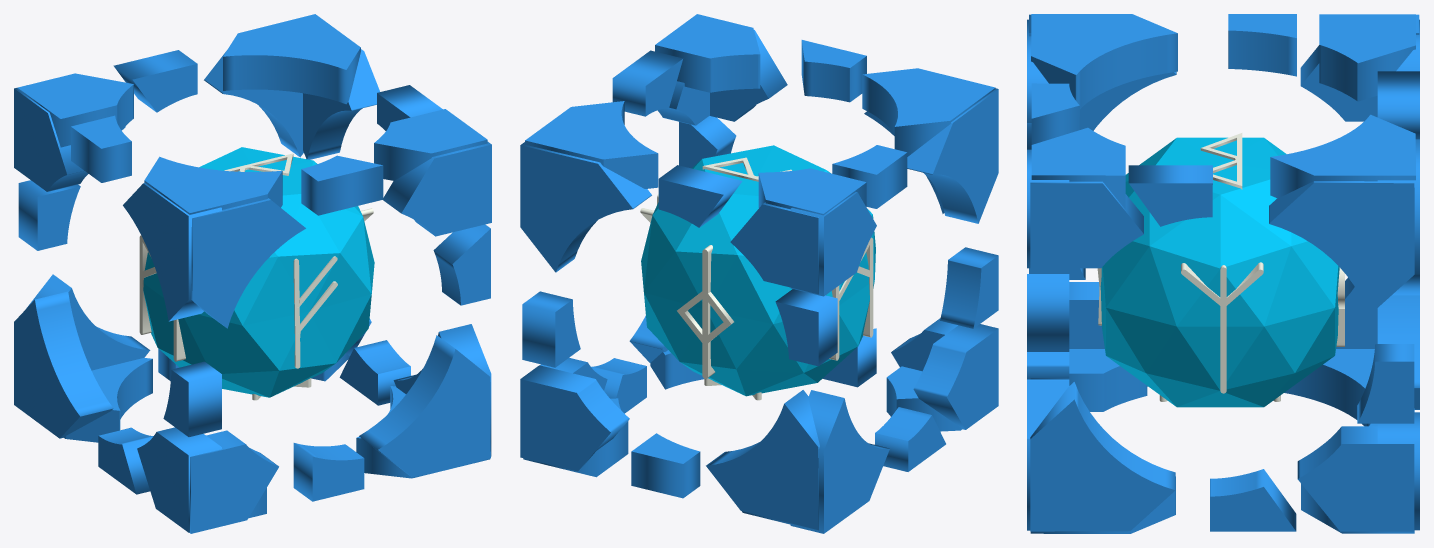
The picture shows the model from 3 angles, left to right: view 1: azimuth 30°, elevation 25°; view 2: azimuth 150°, elevation 25°; view 3: azimuth 270°, elevation 25°; orthographic projection. The views are drawn at different scales.
Parts seen in each view (by area): view 1: cube 03, cube 02, cube 01, Icosphere, cube 04, cube 06, cube 05, letter 02, letter 03, letter 01; view 2: cube 04, cube 01, cube 02, Icosphere, cube 06, cube 05, cube 03, letter 05, letter 03, letter 01; view 3: cube 06, Icosphere, cube 02, cube 05, cube 01, cube 04, cube 03, letter 04, letter 01, letter 05.
Part boxes in pixels (bbox=[...]): cube 03: bbox=[189, 142, 491, 533]; cube 02: bbox=[17, 14, 487, 215]; cube 01: bbox=[14, 88, 221, 532]; Icosphere: bbox=[143, 147, 374, 397]; cube 04: bbox=[18, 50, 303, 370]; cube 06: bbox=[303, 49, 491, 456]; cube 05: bbox=[64, 349, 490, 518]; letter 02: bbox=[293, 256, 337, 368]; letter 03: bbox=[139, 235, 185, 361]; letter 01: bbox=[224, 153, 293, 175]; cube 04: bbox=[520, 142, 837, 530]; cube 01: bbox=[790, 88, 998, 533]; cube 02: bbox=[525, 14, 995, 215]; Icosphere: bbox=[641, 145, 875, 396]; cube 06: bbox=[522, 50, 709, 413]; cube 05: bbox=[523, 350, 961, 524]; cube 03: bbox=[679, 30, 957, 387]; letter 05: bbox=[677, 245, 733, 378]; letter 03: bbox=[829, 237, 873, 360]; letter 01: bbox=[702, 157, 791, 181]; cube 06: bbox=[1030, 165, 1414, 531]; Icosphere: bbox=[1100, 137, 1339, 407]; cube 02: bbox=[1031, 14, 1415, 209]; cube 05: bbox=[1030, 349, 1414, 533]; cube 01: bbox=[1029, 14, 1419, 386]; cube 04: bbox=[1377, 19, 1419, 530]; cube 03: bbox=[1027, 19, 1069, 530]; letter 04: bbox=[1181, 262, 1263, 393]; letter 01: bbox=[1200, 133, 1242, 189]; letter 05: bbox=[1336, 267, 1344, 346].
Bounding box in the file's own units: 419 × 423 × 421.
